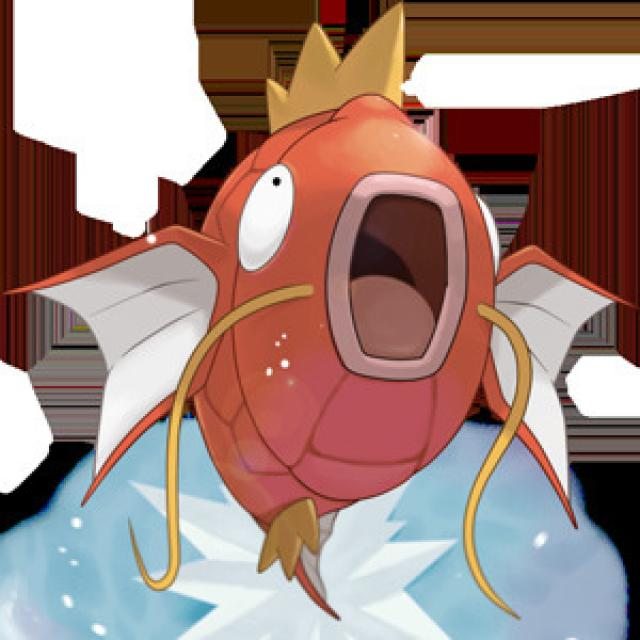Magikarp: (119, 11, 525, 583)
